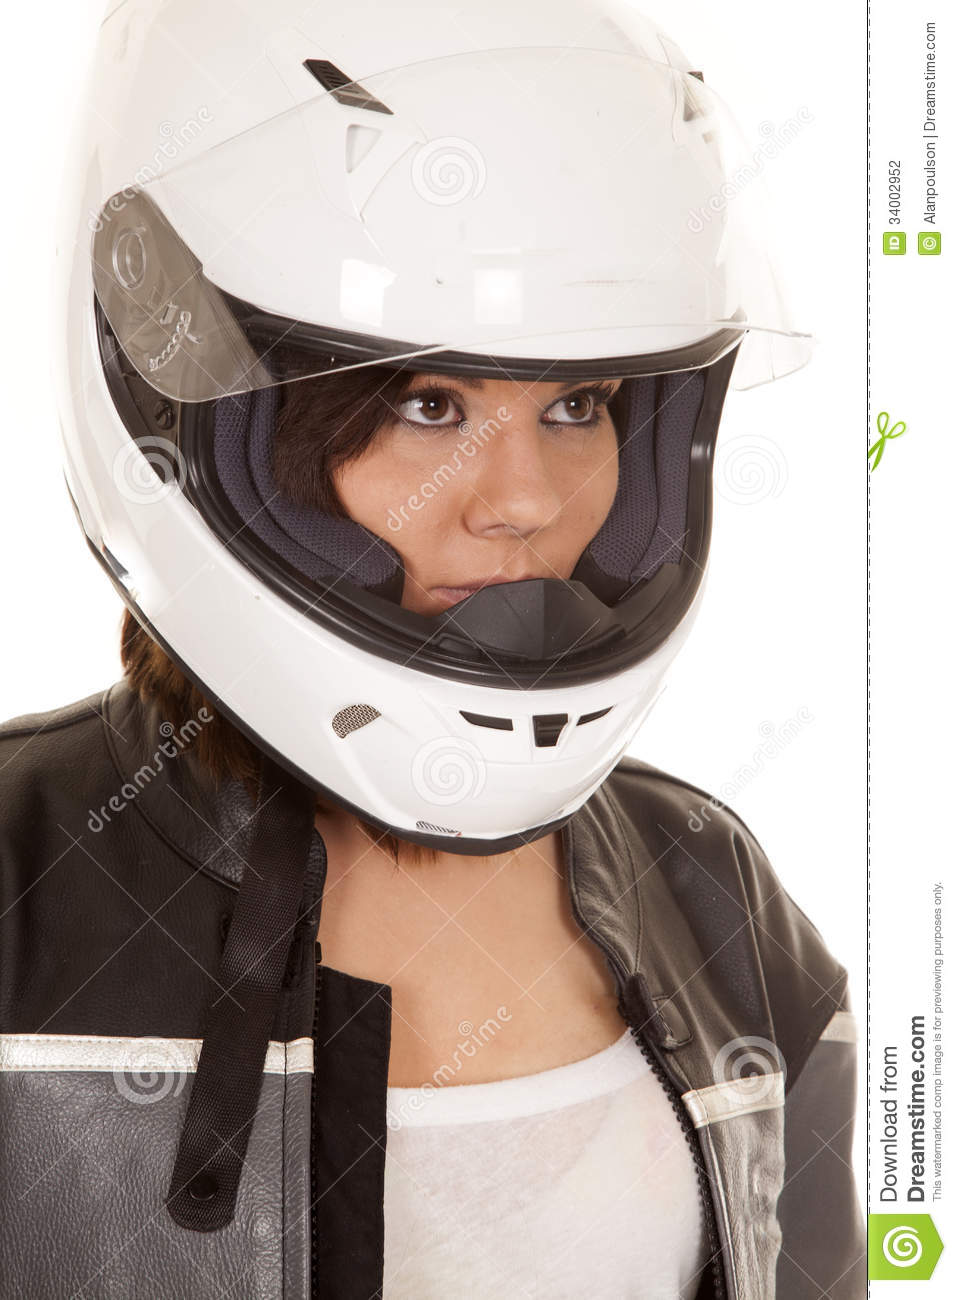helmet: (72, 17, 724, 815)
